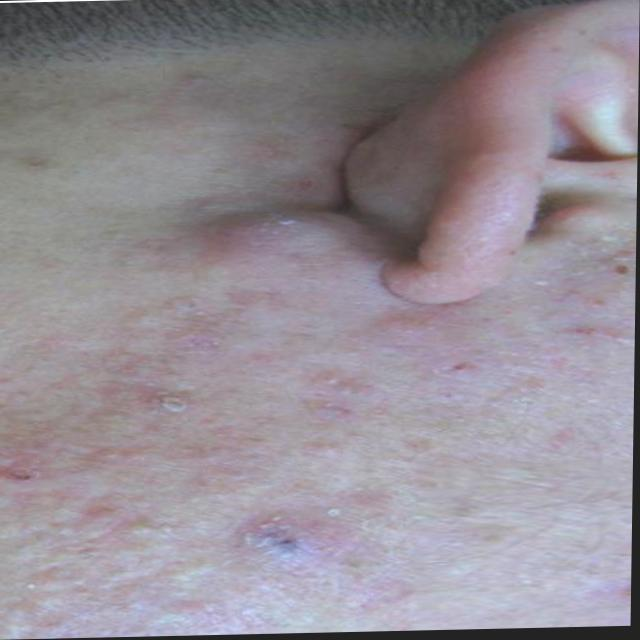papules: (209, 502, 330, 590), (130, 383, 217, 442), (60, 565, 150, 605), (291, 374, 374, 403)
pustules: (188, 180, 371, 277)
